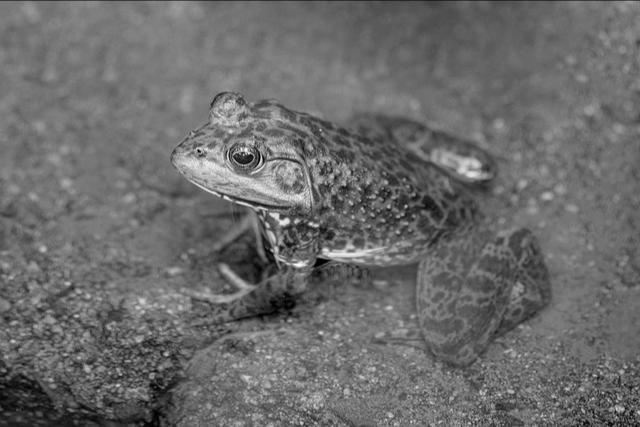Non_Gorille: (112, 25, 558, 376)
